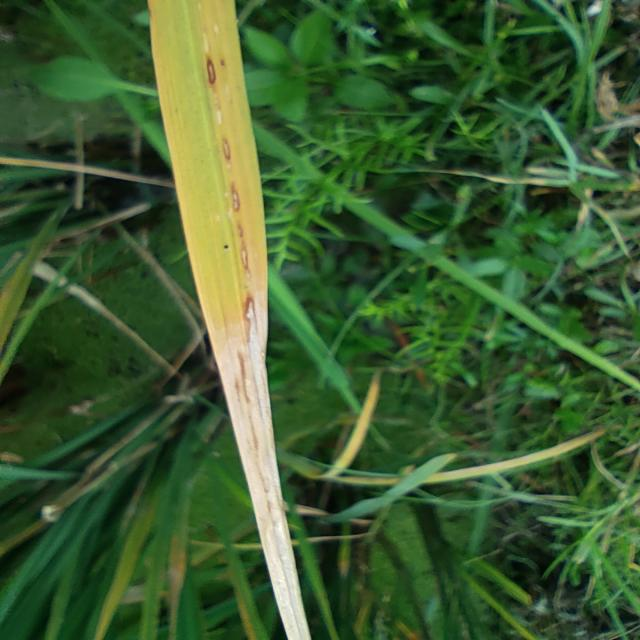Narrow_Brown_Leaf_Spot: (201, 44, 310, 640)
